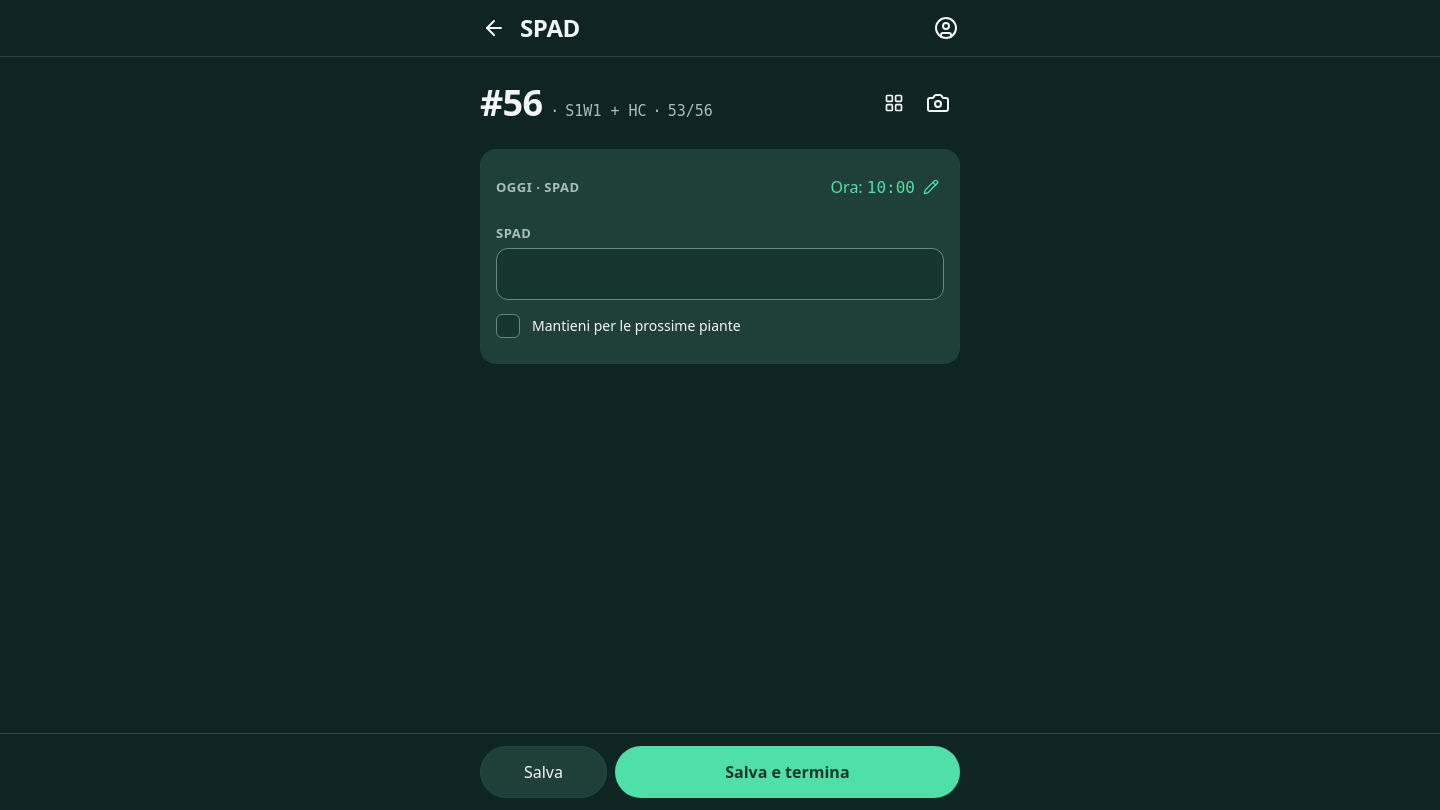
Test: MisuraPianta: il giro › sull'ultima pianta da misurare "Salva e termina" porta alla fine del giro: fine giro 54/56, mancano 12 e 33
expect the button "Salva" is shown: met, box [480,746,607,798]
Type "40" into the field labelled "SPAD" at {"x": 720, "y": 274}, box [496,248,944,300]
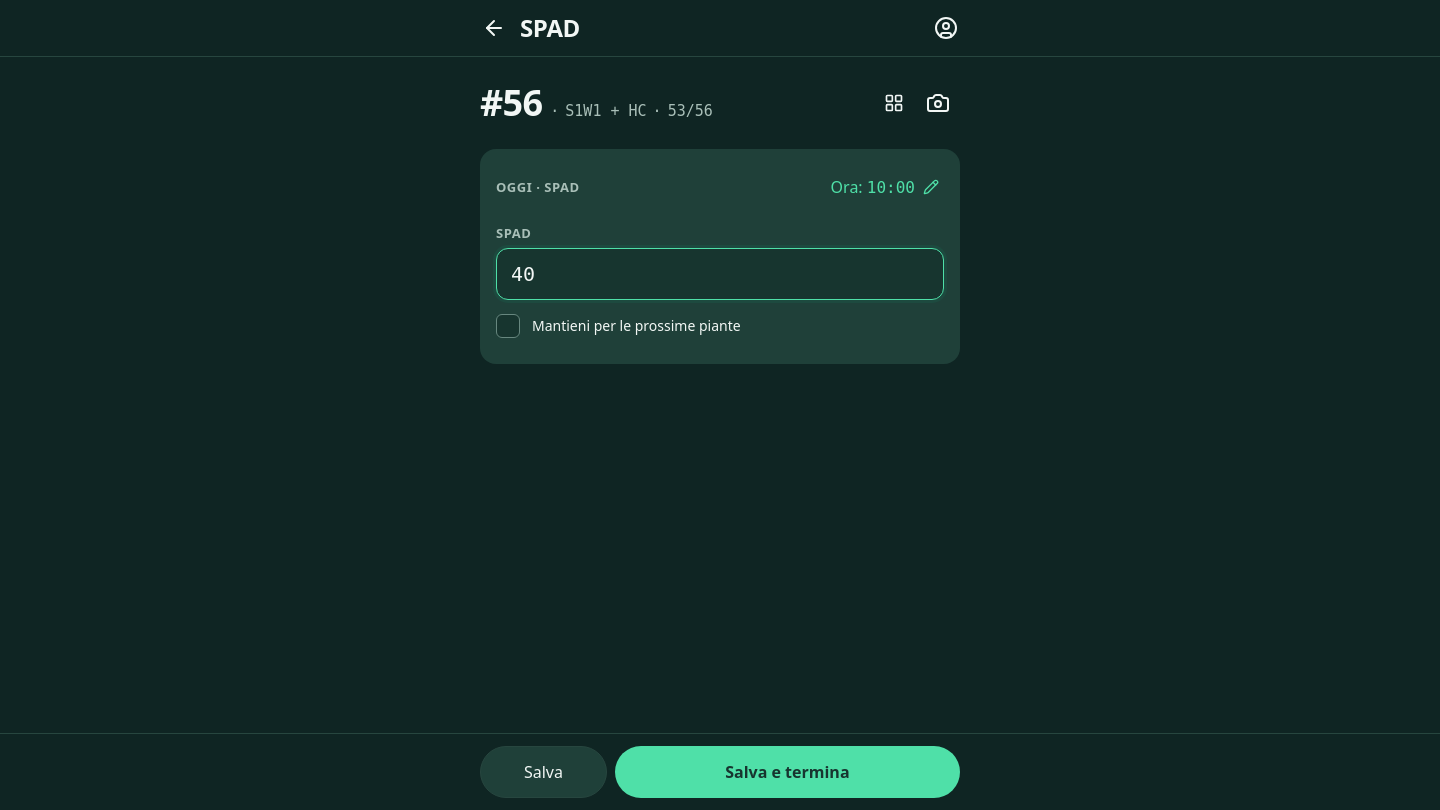
Click the button "Salva e termina" at {"x": 787, "y": 772}, box [615,746,960,798]
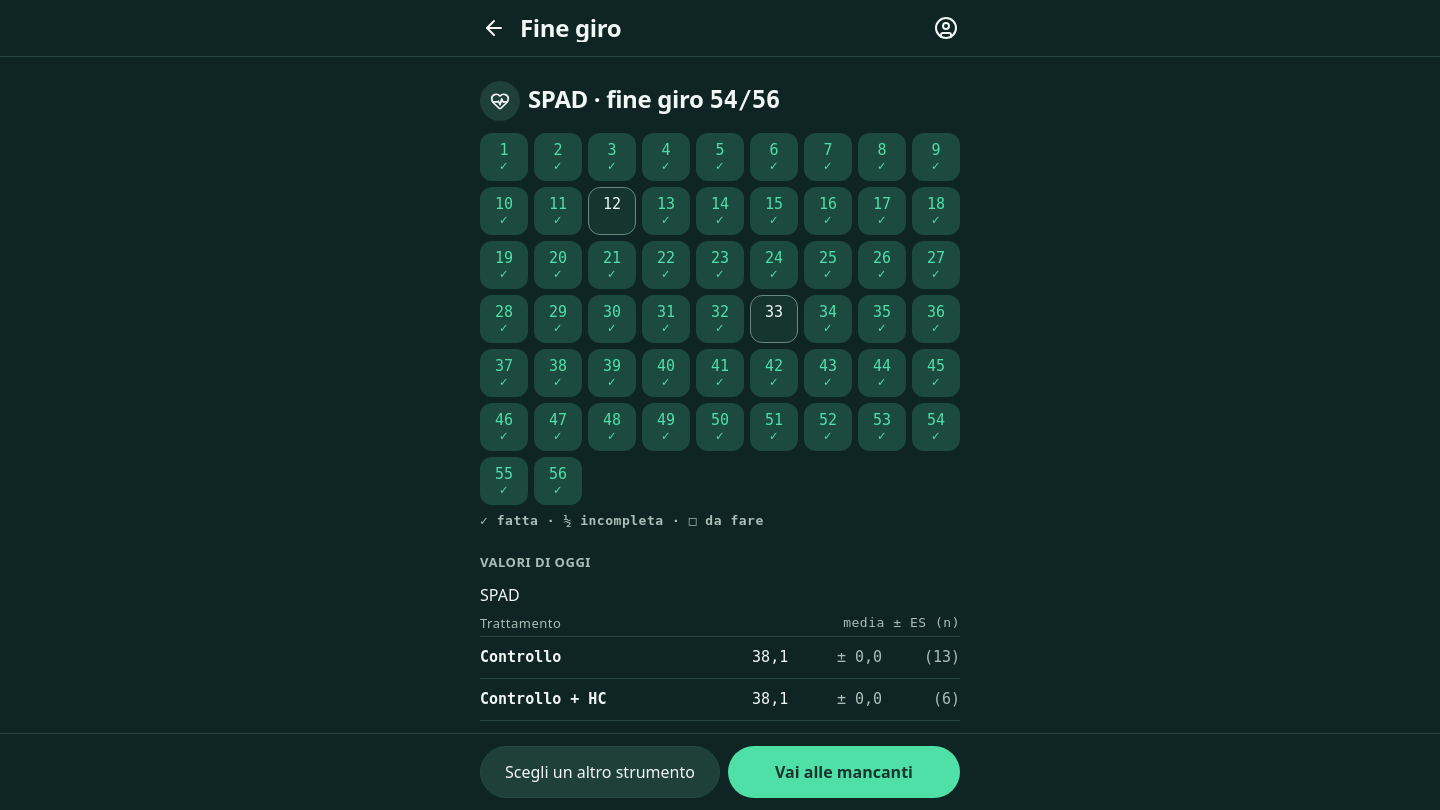
expect the heading "SPAD · fine giro 54/56" is shown: met, box [480,81,780,121]
expect the button named "Pianta #12, da fare" is shown: met, box [588,187,636,235]
expect the button named "Pianta #33, da fare" is shown: met, box [750,295,798,343]
